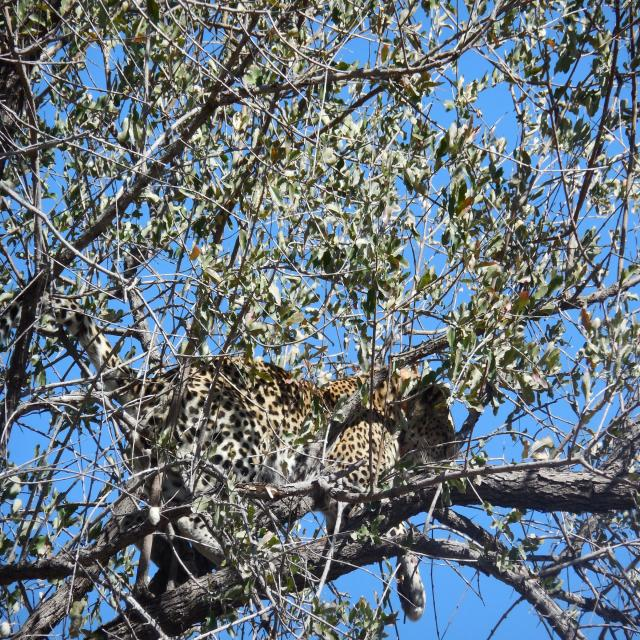Leopard: (0, 290, 459, 592)
